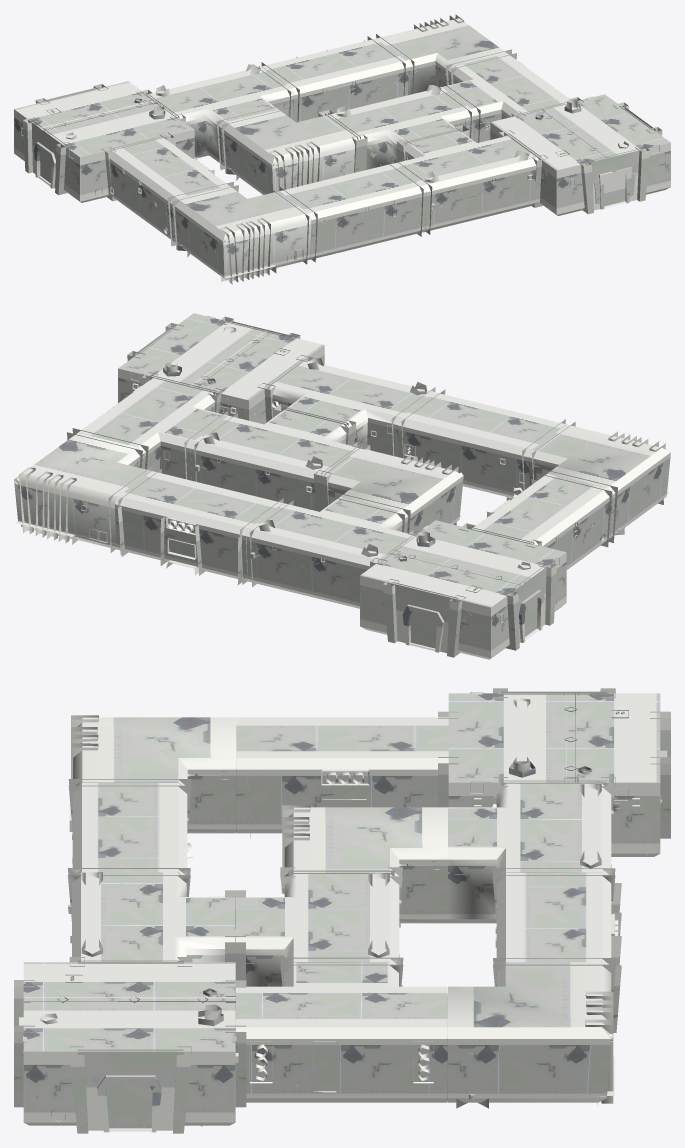
Rendered from Combined_Mesh_root_scene__2_ff295a5e__zombies2_diffuse_11_814463c1_c1f257.obj.
3 renders of one model, top to bottom at view 1: azimuth 30°, elevation 25°; view 2: azimuth 150°, elevation 25°; view 3: azimuth 270°, elevation 25°, orthographic. The views are drawn at different scales.
Bounding box in the file's own units: 81.96 × 9.64 × 62.02.
180 materials, 180 textured.
